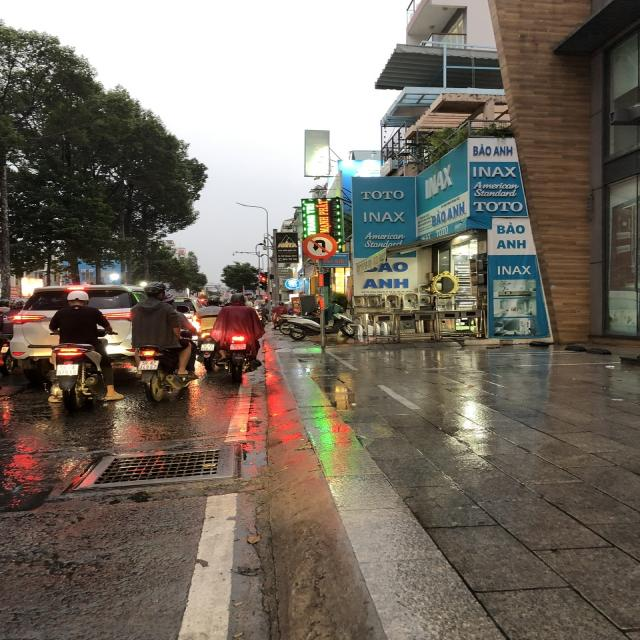Bien bao cam quay dau xe: (301, 231, 342, 260), (275, 246, 298, 253)
